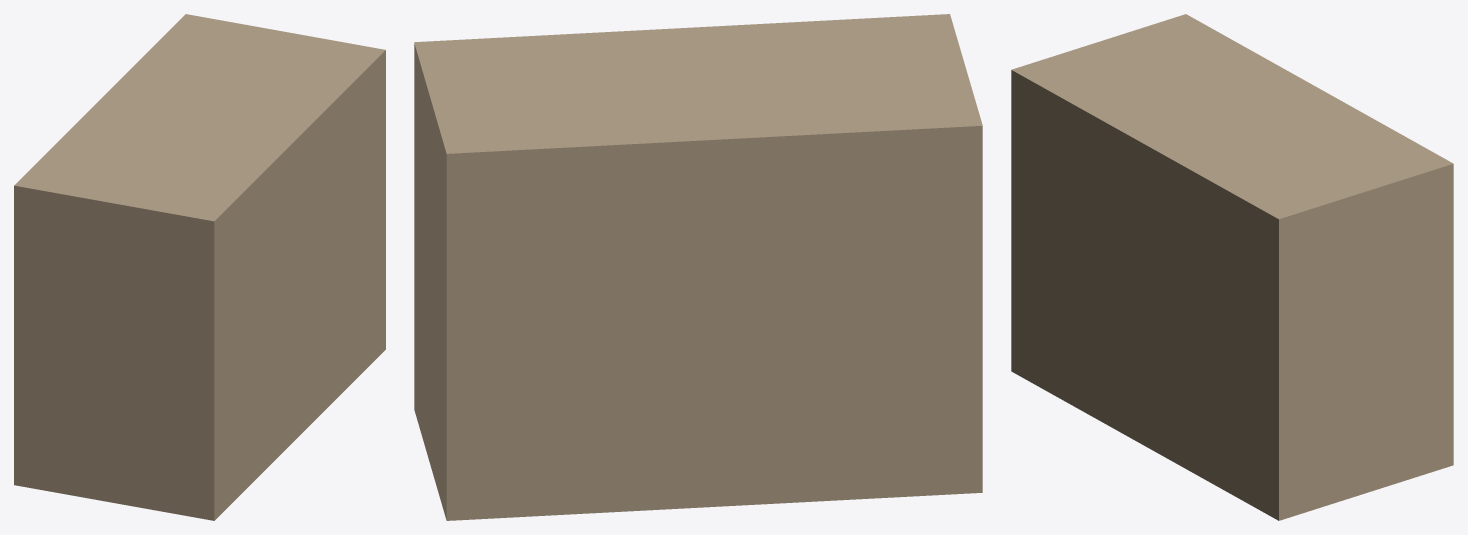
Rendered from bld_158045402.dae.
The picture shows the model from 3 angles, left to right: view 1: azimuth 30°, elevation 25°; view 2: azimuth 150°, elevation 25°; view 3: azimuth 270°, elevation 25°; orthographic projection. The views are drawn at different scales.
Visible parts, largest first — view 1: bld_158045402; view 2: bld_158045402; view 3: bld_158045402.
Boxes of the visible parts, x1=… form: bld_158045402: x1=14, y1=14, x2=385, y2=520; bld_158045402: x1=414, y1=14, x2=982, y2=520; bld_158045402: x1=1011, y1=14, x2=1453, y2=520.
Size of the model in its own units: 11.68 by 10.64 by 8.
